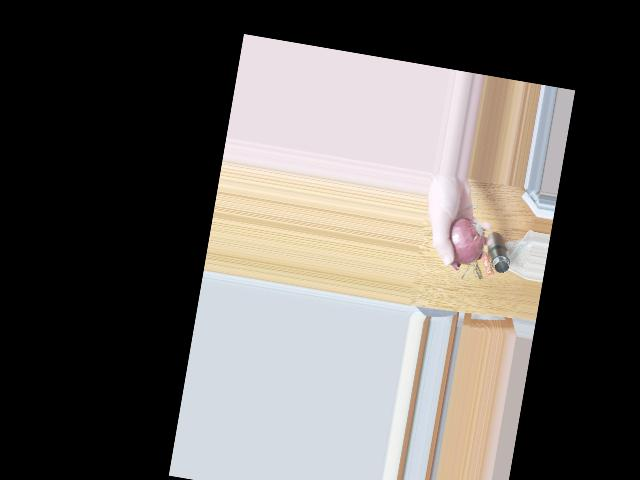onion: (442, 219, 483, 265)
